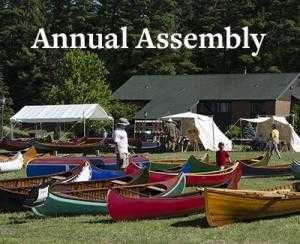kayak: (106, 161, 243, 220), (13, 156, 149, 215), (203, 184, 300, 227), (24, 155, 143, 180), (238, 158, 298, 177), (32, 141, 109, 154), (0, 150, 24, 172), (0, 138, 34, 153), (289, 160, 300, 179)
